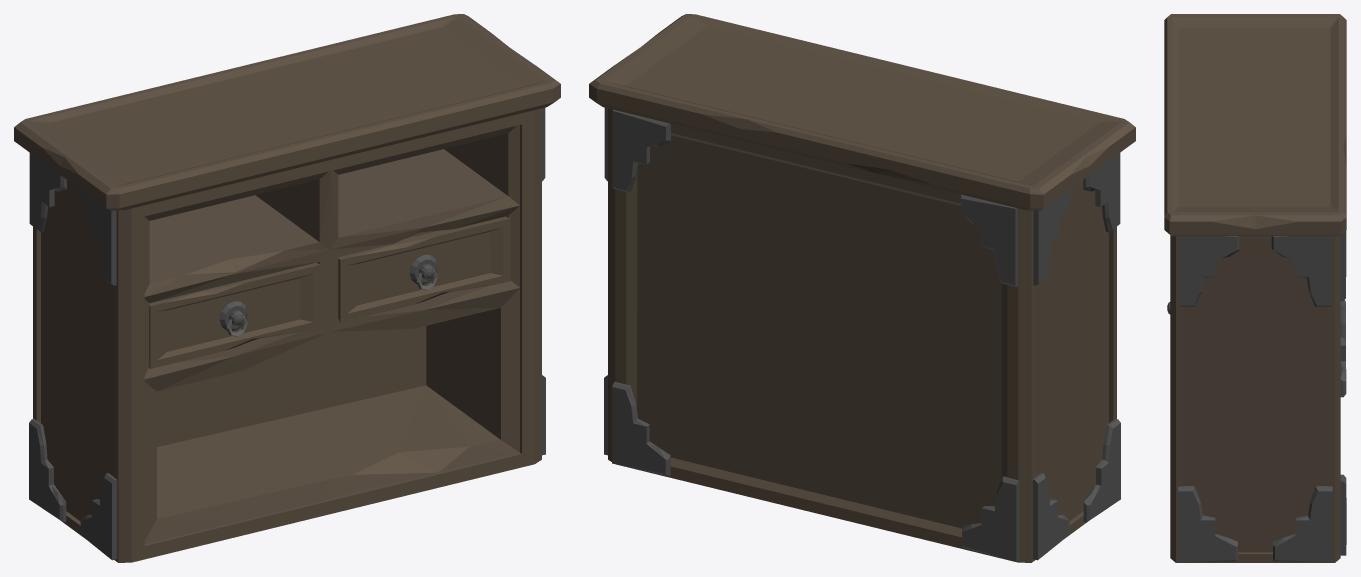
The model's file is Shelving_017.fbx.
The picture shows the model from 3 angles, left to right: view 1: azimuth 30°, elevation 25°; view 2: azimuth 150°, elevation 25°; view 3: azimuth 270°, elevation 25°; orthographic projection. The views are drawn at different scales.
Visible parts, largest first — view 1: Shelving_017; view 2: Shelving_017; view 3: Shelving_017.
Boxes of the visible parts, left/top/right/bottom form: Shelving_017: left=14, top=14, right=560, bottom=562; Shelving_017: left=589, top=14, right=1135, bottom=562; Shelving_017: left=1164, top=14, right=1346, bottom=562.
Size of the model in its own units: 1.15 by 0.9119 by 0.4284.
